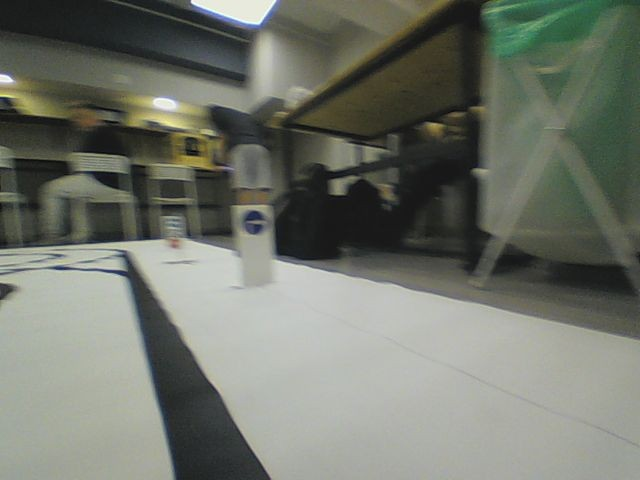Right: (242, 209, 268, 237)
